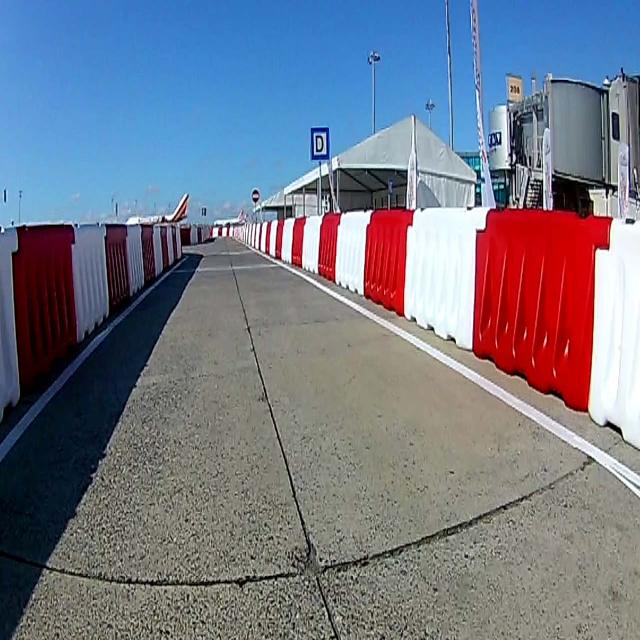durak: (308, 124, 329, 160)
girisyok: (251, 186, 259, 202)
